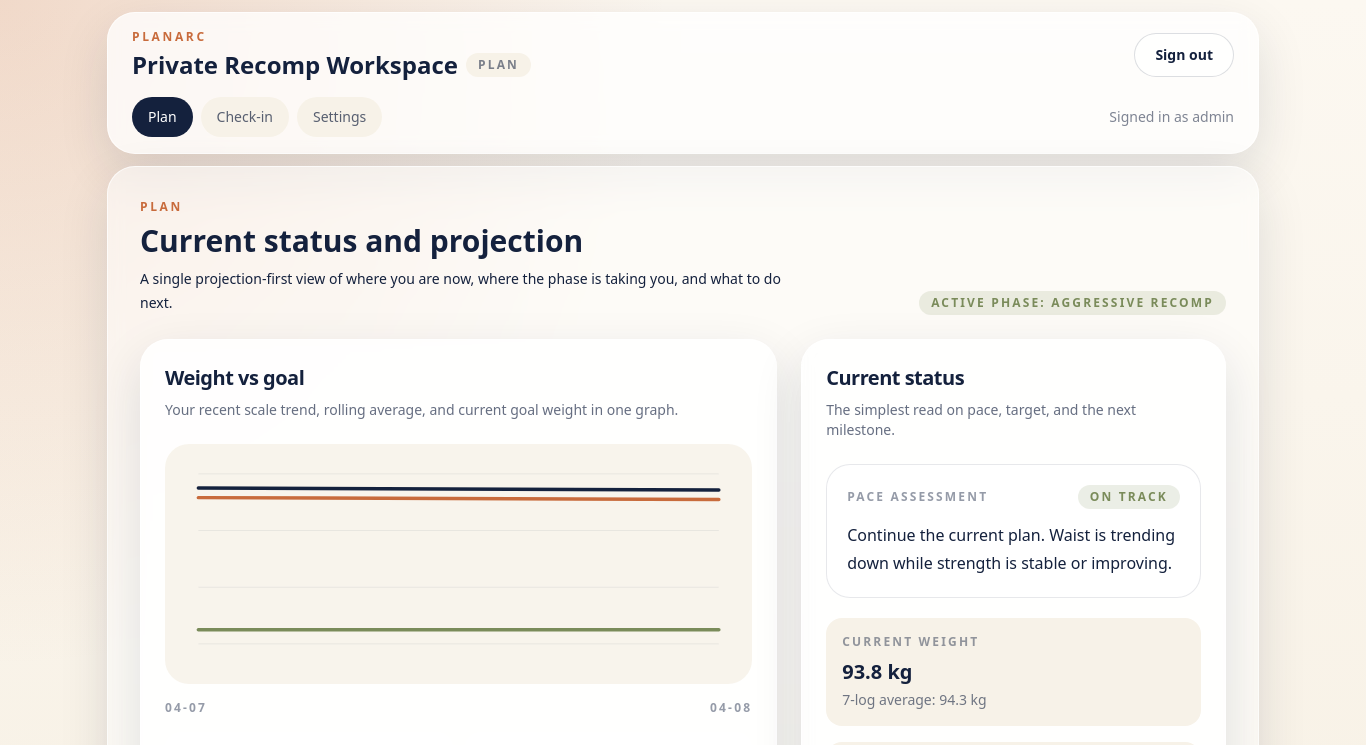
Test: logout returns the user to the login screen
The width and height of the screenshot is (1366, 745).
Check: the heading "Current status and projection" is shown, box [140, 220, 583, 261]
Click the button "Sign out".
click(1184, 55)  # box [1134, 33, 1234, 77]
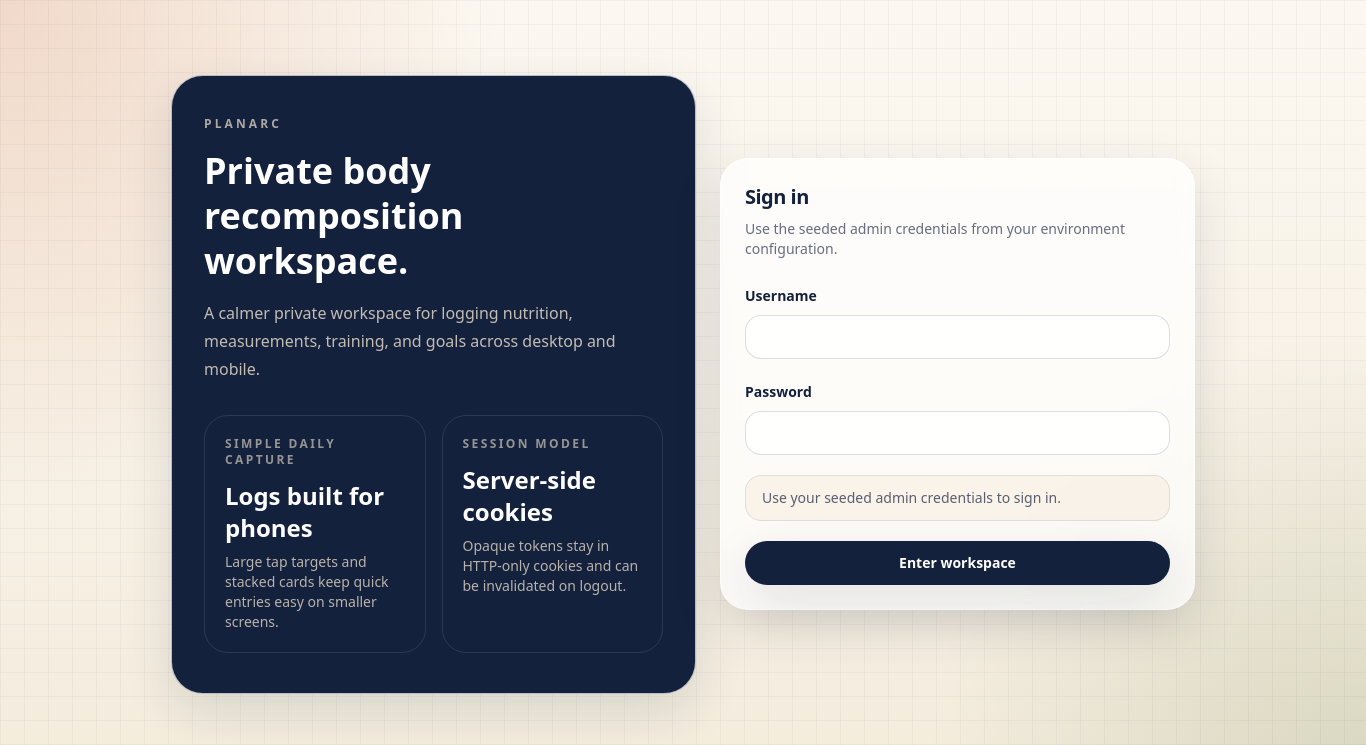
Check: the heading "Sign in" is shown, box [745, 183, 809, 210]
